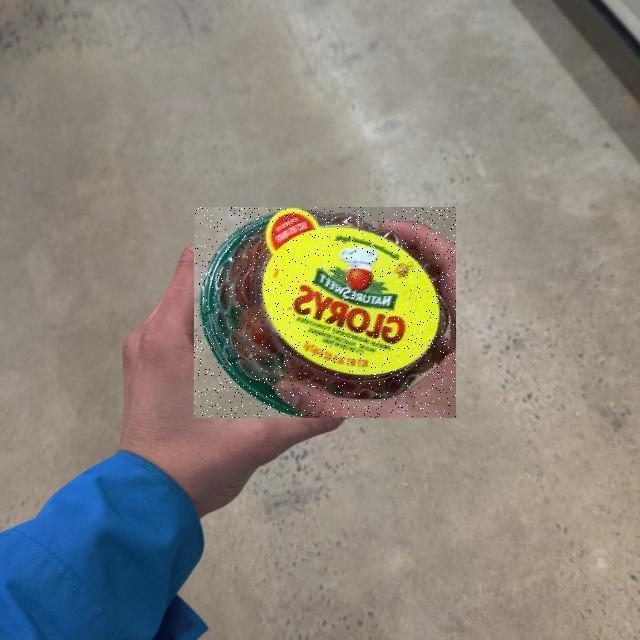Tomatoes: (194, 207, 456, 418)
